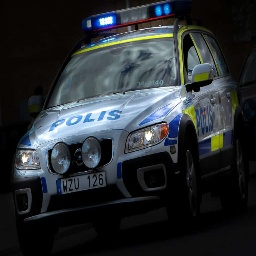sv_licence_plate: (55, 170, 108, 194)
